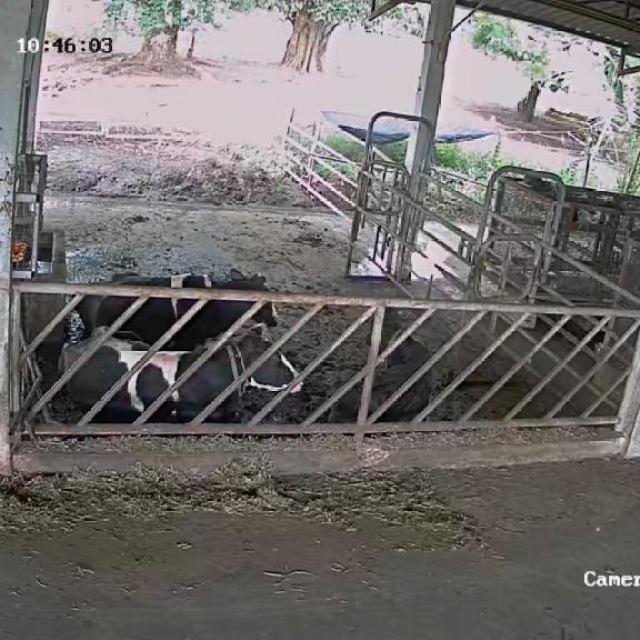lying down: (65, 322, 303, 437), (78, 262, 276, 356), (324, 300, 439, 422)
